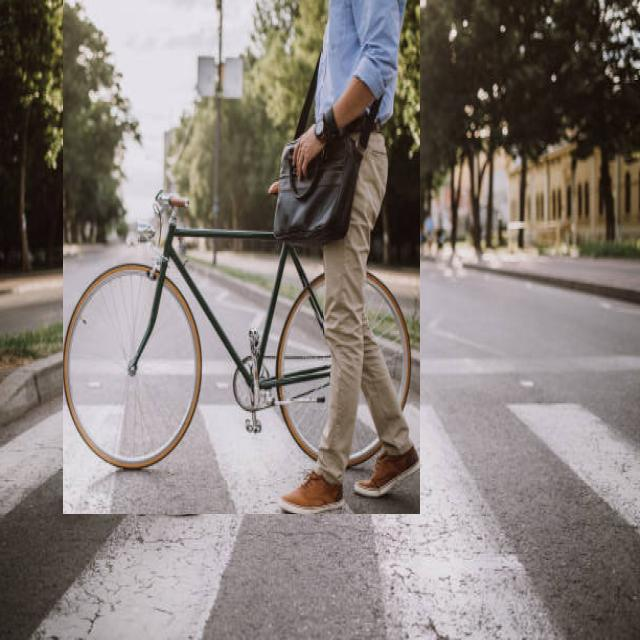bicycle: (63, 0, 419, 514)
